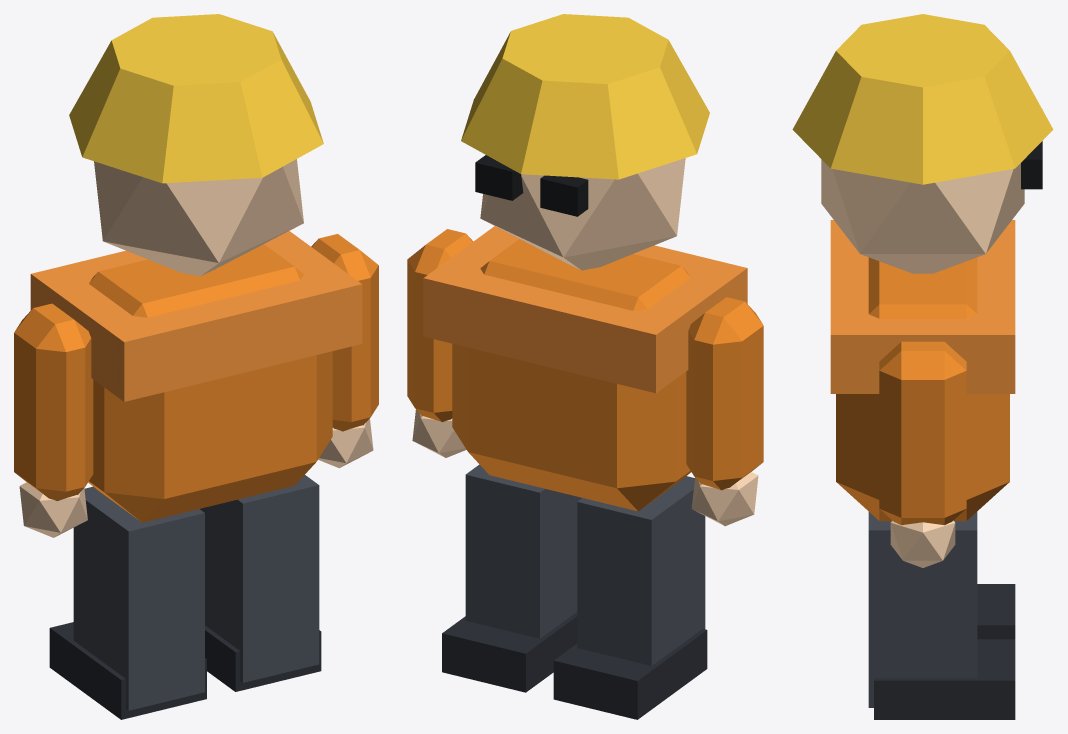
Rendered from worker.glb.
The picture shows the model from 3 angles, left to right: view 1: azimuth 30°, elevation 25°; view 2: azimuth 150°, elevation 25°; view 3: azimuth 270°, elevation 25°; orthographic projection. The views are drawn at different scales.
Visible parts, largest first — view 1: Torso, Leg_L, Leg_R, Arm_L, Arm_R; view 2: Torso, Leg_L, Leg_R, Arm_L, Arm_R; view 3: Torso, Leg_R, Arm_R, Leg_L.
Boxes of the visible parts, bbox=[...] form: Torso: bbox=[30, 14, 362, 522]; Leg_L: bbox=[49, 486, 206, 719]; Leg_R: bbox=[200, 475, 321, 691]; Arm_L: bbox=[14, 303, 93, 537]; Arm_R: bbox=[311, 234, 378, 468]; Torso: bbox=[423, 14, 747, 511]; Leg_L: bbox=[553, 476, 707, 719]; Leg_R: bbox=[442, 464, 581, 692]; Arm_L: bbox=[686, 297, 763, 526]; Arm_R: bbox=[407, 229, 472, 457]; Torso: bbox=[792, 14, 1053, 521]; Leg_R: bbox=[868, 512, 1015, 719]; Arm_R: bbox=[879, 341, 966, 567]; Leg_L: bbox=[977, 584, 1015, 639].
Bounding box in the file's own units: 0.3626 × 0.63 × 0.24.
Materials: 1 (1 with a texture image).
